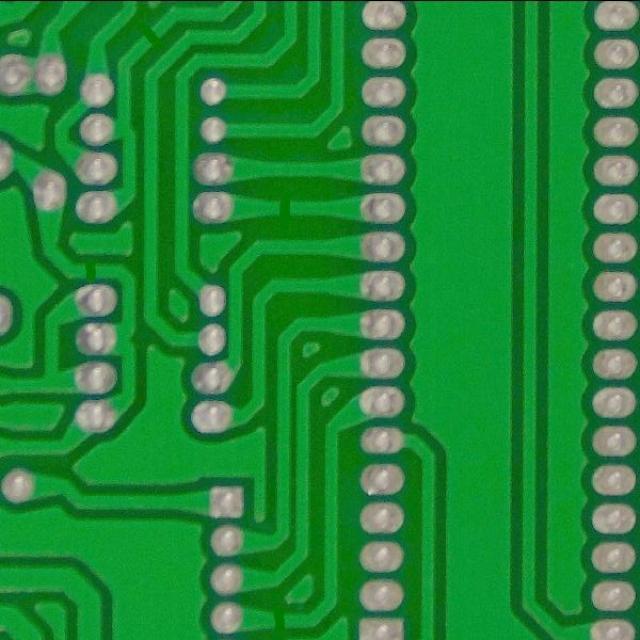open_circuit: (266, 604, 292, 634), (139, 18, 161, 52), (271, 194, 295, 220), (79, 256, 102, 282)
